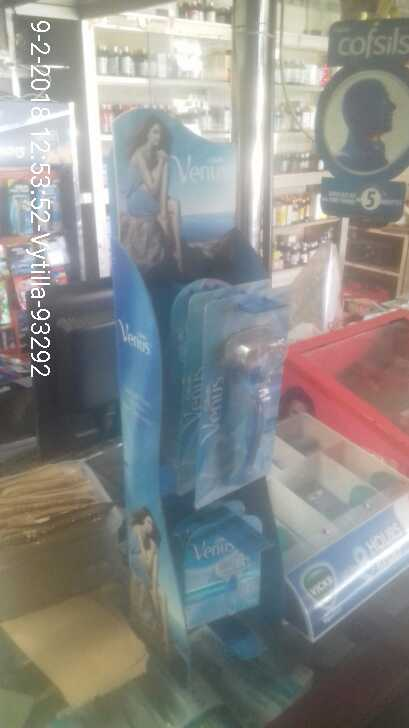venus: (203, 300, 287, 486), (174, 528, 274, 628)
